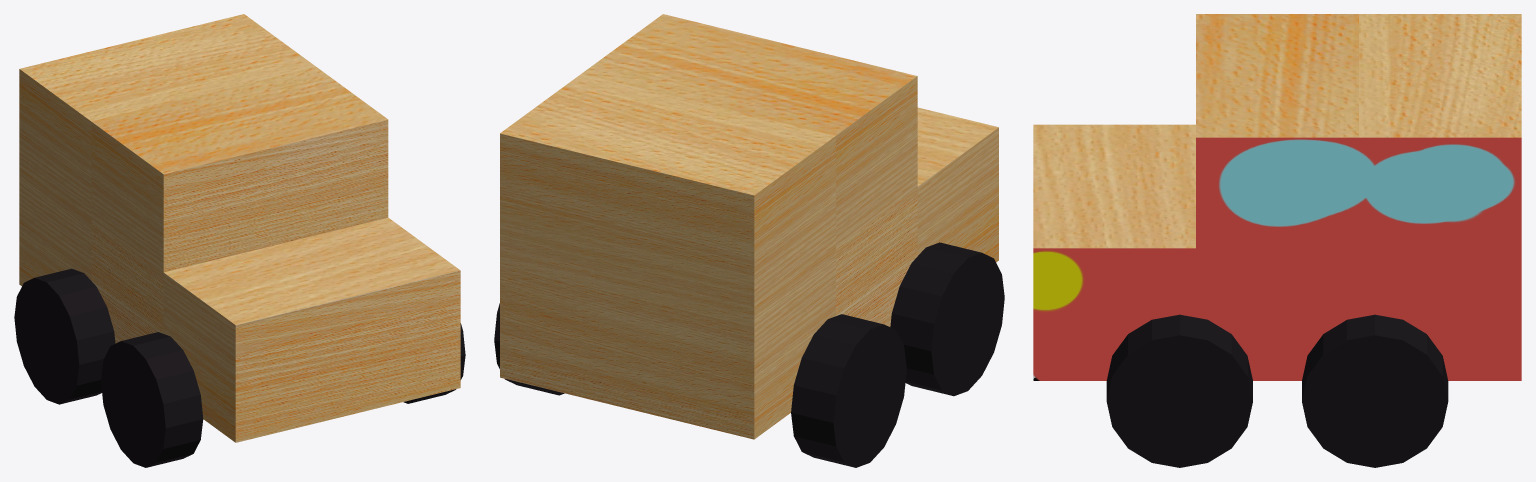
Rendered from car_0817_2.fbx.
The picture shows the model from 3 angles, left to right: view 1: azimuth 30°, elevation 25°; view 2: azimuth 150°, elevation 25°; view 3: azimuth 270°, elevation 25°; orthographic projection. The views are drawn at different scales.
Visible parts, largest first — view 1: 立方体; view 2: 立方体; view 3: 立方体, 立方体.001.
Boxes of the visible parts, box(x1,y1,x2,y2) form: 立方体: box(14, 14, 465, 467); 立方体: box(494, 14, 1004, 467); 立方体: box(1033, 14, 1521, 467); 立方体.001: box(1033, 137, 1521, 380).
Bounding box in the file's own units: 160 × 140 × 200.
